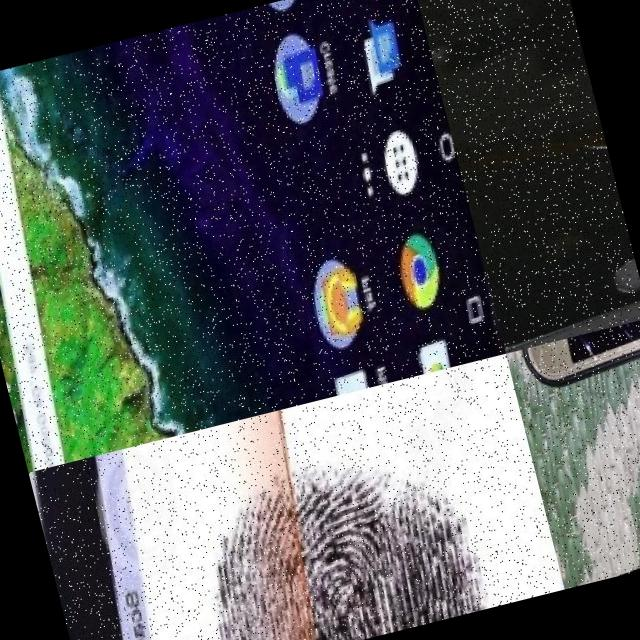scratch: (558, 128, 626, 237)
screen crack: (509, 317, 640, 409)
